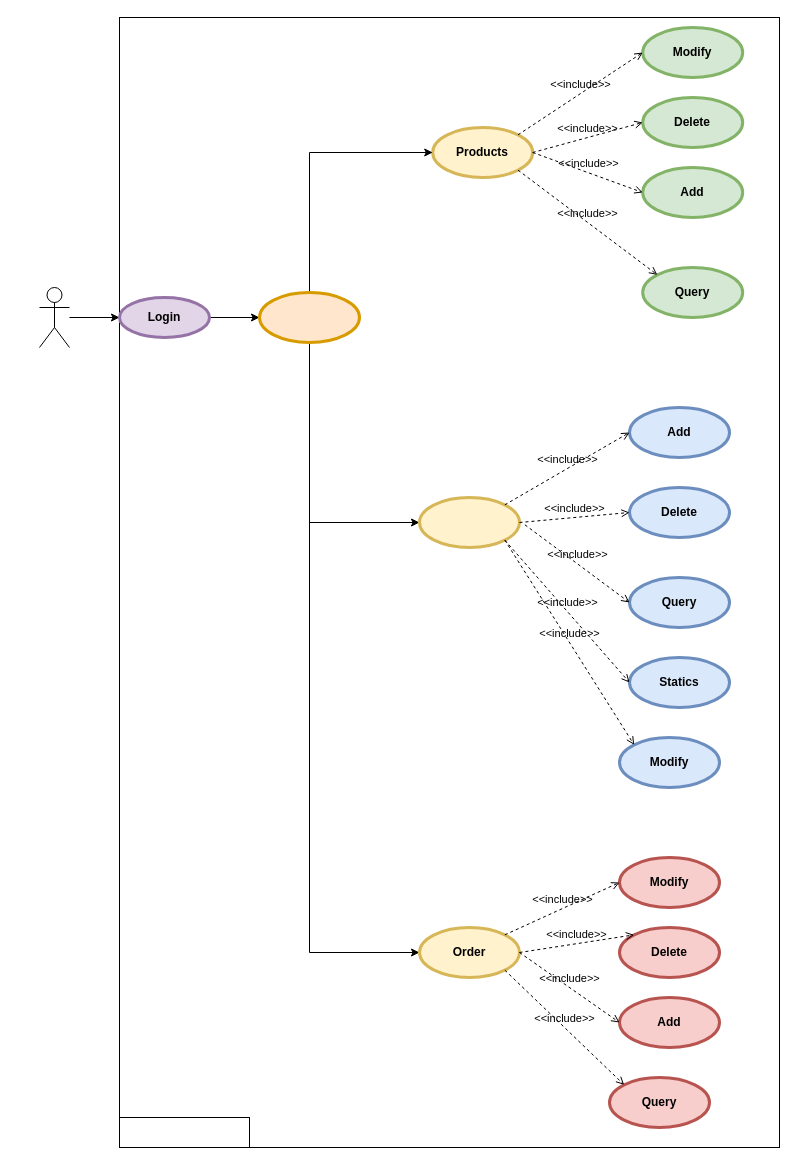
The diagram is 797 pixels wide and 1165 high, and some of its shapes have lost their labels. Here are the shapes that lost their labels. From the top down, the centre of each, then its label:
At pixel 54 317: "Administrador".
At pixel 309 317: "Manage".
At pixel 469 522: "Suppliers".
At pixel 184 1132: "Sistema Gestor DD".
